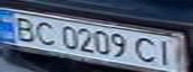0: (54, 24, 78, 52), (90, 28, 112, 57)
2: (75, 26, 96, 54)
9: (109, 30, 130, 61)
B: (6, 15, 42, 43)
C: (133, 35, 163, 64), (30, 19, 60, 47)
I: (154, 38, 181, 68)
